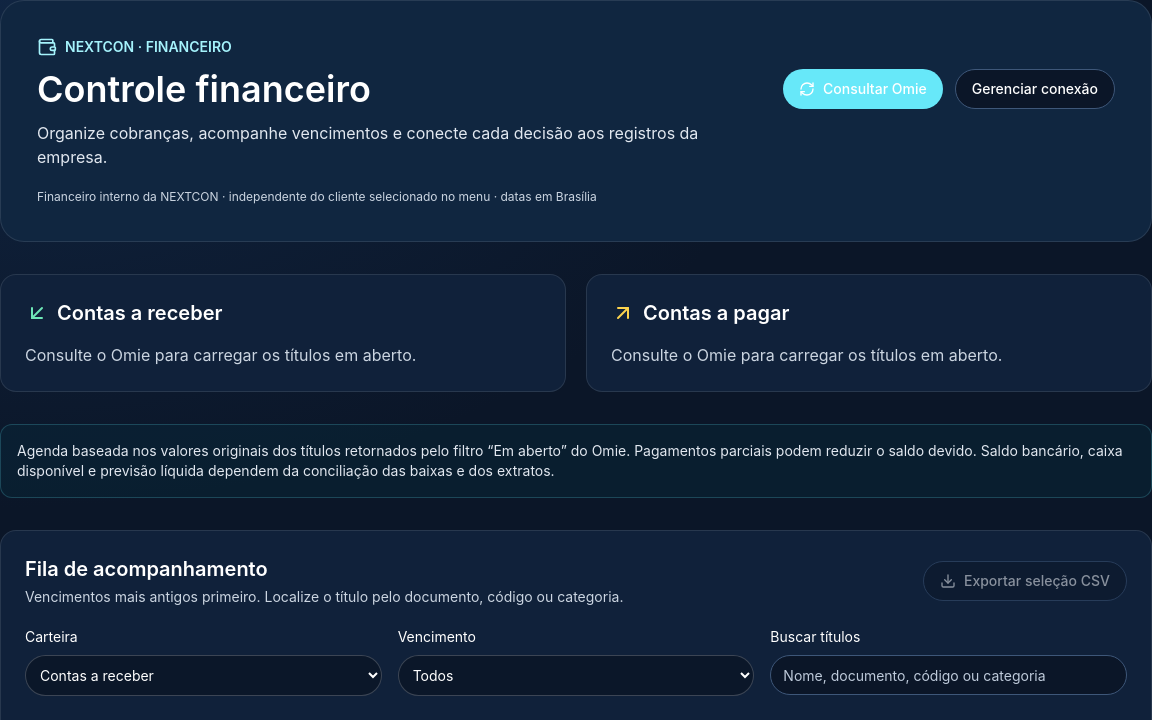
it: central financeira › mantém uma carteira disponível quando a outra falha
Click the button "Consultar Omie": (863, 89) [783, 69, 943, 109]
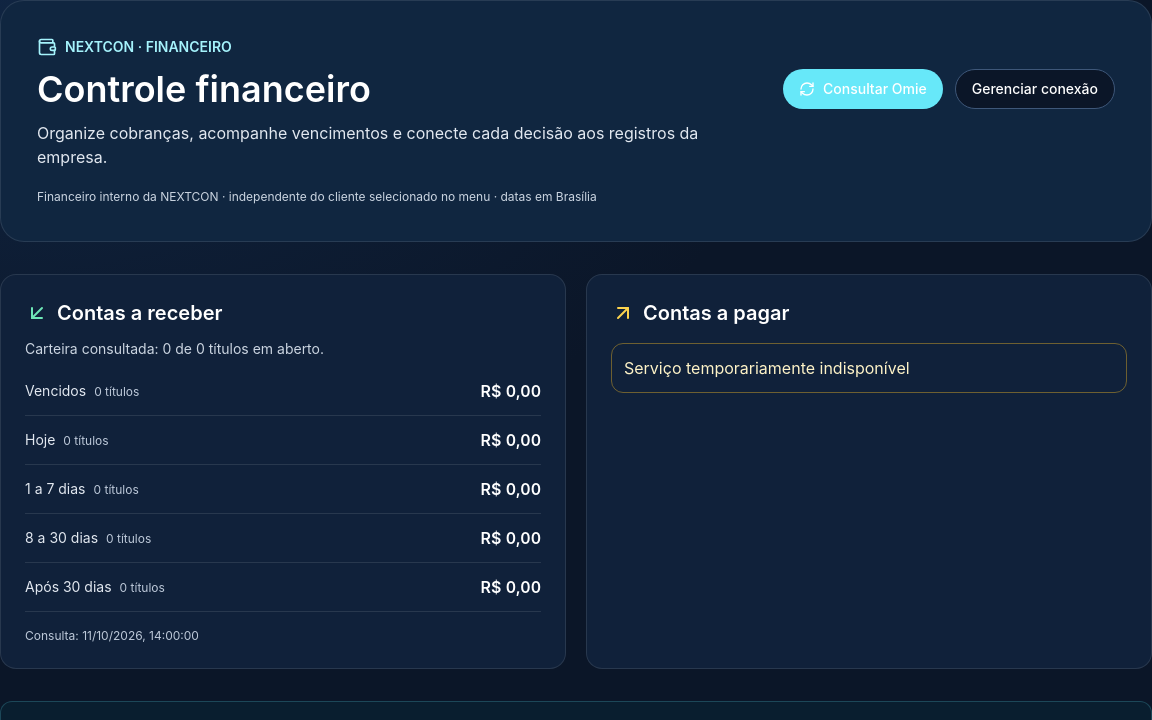
Expected: the text "Carteira consultada: 0 de 0" is shown, [25, 340, 324, 357]
Expected: the message "Serviço temporariamente indisponível" is shown, [611, 343, 1127, 393]
